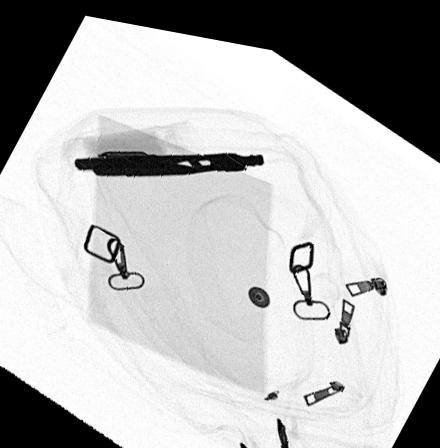Pliers: (72, 141, 266, 173)
